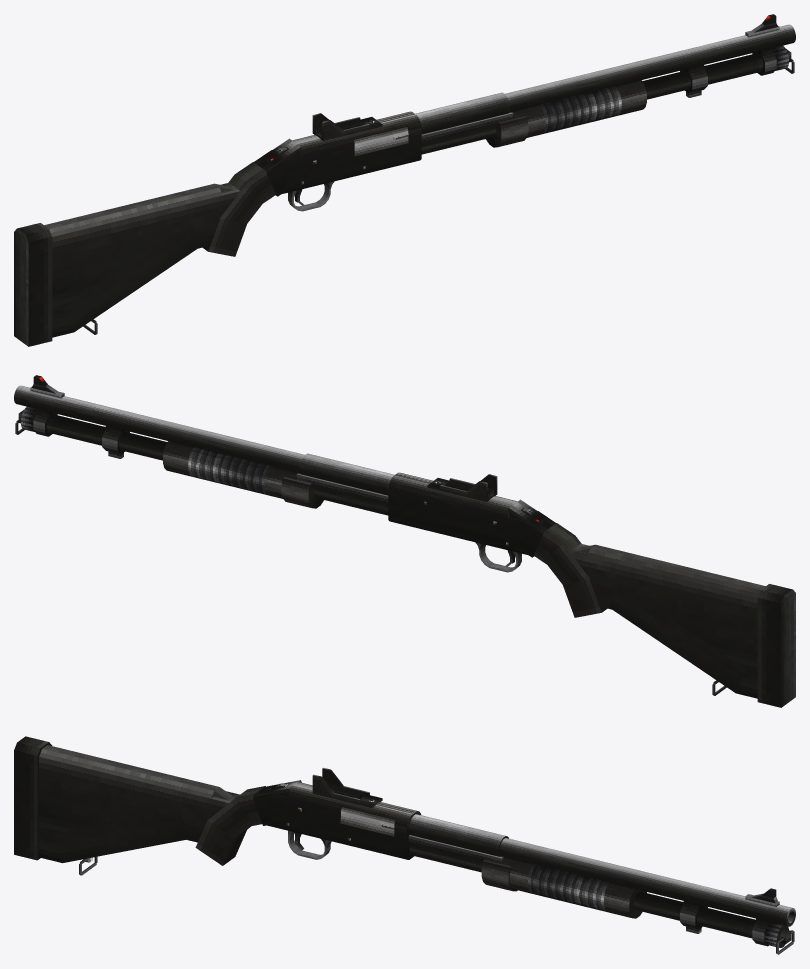
The picture shows the model from 3 angles, top to bottom: view 1: azimuth 30°, elevation 25°; view 2: azimuth 150°, elevation 25°; view 3: azimuth 330°, elevation 25°; orthographic projection.
Visible parts, largest first — view 1: f5b3763d-064a-b784-0038-adc38adc37ef_32, 03a13dee-b489-3118-200b-b3db47bec4b4_38, bbc3fae7-c1f7-fe44-36c8-0cfbc50deba8_44, 63db1a1c-2522-44b8-e556-fcaa695070a6_33, c65d6286-7d67-9cbf-564e-df467fdace8f_144, 2455313a-f111-2c21-71c5-62701c544ca4_37, 777f85dd-bde5-9965-7a39-69890c07a42d_72, bcd631ef-e9cc-dfdc-f6a1-9ca89ff91bc4_74, 2102f927-13a0-3fd6-2e2a-9fac8070c994_70, 395d2e81-b7a1-6665-77a1-1fc556287d8c_43, e7e45683-331e-6489-7116-b20fe40d7f47_42, 28983379-c6ce-c915-3b53-f1b58fa442b5_78 (+12 smaller); view 2: f5b3763d-064a-b784-0038-adc38adc37ef_32, 889fbead-96bc-6db0-e99b-063bc0b169ee_169, 03a13dee-b489-3118-200b-b3db47bec4b4_38, bbc3fae7-c1f7-fe44-36c8-0cfbc50deba8_44, 63db1a1c-2522-44b8-e556-fcaa695070a6_33, 07a236e7-972c-52e0-cf96-bb604088c817_35, 7104beb4-977b-7ccc-7b63-0e26ed53634f_60, b27be56c-dda7-6fed-67fd-9854de0a5e03_58, 7782739e-1e59-092c-4560-c3aad0b7c5ed_61, 395d2e81-b7a1-6665-77a1-1fc556287d8c_43, e7e45683-331e-6489-7116-b20fe40d7f47_42, af05183c-fe40-4eb0-2244-6fc0c3def514_56 (+11 smaller); view 3: f5b3763d-064a-b784-0038-adc38adc37ef_32, bbc3fae7-c1f7-fe44-36c8-0cfbc50deba8_44, 63db1a1c-2522-44b8-e556-fcaa695070a6_33, 03a13dee-b489-3118-200b-b3db47bec4b4_38, c65d6286-7d67-9cbf-564e-df467fdace8f_144, 2455313a-f111-2c21-71c5-62701c544ca4_37, 777f85dd-bde5-9965-7a39-69890c07a42d_72, bcd631ef-e9cc-dfdc-f6a1-9ca89ff91bc4_74, e7e45683-331e-6489-7116-b20fe40d7f47_42, 2102f927-13a0-3fd6-2e2a-9fac8070c994_70, 28983379-c6ce-c915-3b53-f1b58fa442b5_78, 8b1bf0f5-1b15-50c4-0dc3-9be38221117c_41 (+22 smaller).
Boxes of the visible parts, box(x1,y1,x2,y2) form: f5b3763d-064a-b784-0038-adc38adc37ef_32: box(52, 218, 127, 306); 03a13dee-b489-3118-200b-b3db47bec4b4_38: box(14, 232, 52, 346); bbc3fae7-c1f7-fe44-36c8-0cfbc50deba8_44: box(64, 222, 200, 332); 63db1a1c-2522-44b8-e556-fcaa695070a6_33: box(128, 183, 240, 264); c65d6286-7d67-9cbf-564e-df467fdace8f_144: box(286, 140, 421, 190); 2455313a-f111-2c21-71c5-62701c544ca4_37: box(49, 187, 222, 236); 777f85dd-bde5-9965-7a39-69890c07a42d_72: box(509, 32, 795, 105); bcd631ef-e9cc-dfdc-f6a1-9ca89ff91bc4_74: box(508, 28, 794, 101); 2102f927-13a0-3fd6-2e2a-9fac8070c994_70: box(510, 35, 795, 108); 395d2e81-b7a1-6665-77a1-1fc556287d8c_43: box(220, 174, 265, 223); e7e45683-331e-6489-7116-b20fe40d7f47_42: box(202, 218, 246, 256); 28983379-c6ce-c915-3b53-f1b58fa442b5_78: box(506, 26, 793, 97); f5b3763d-064a-b784-0038-adc38adc37ef_32: box(682, 579, 757, 667); 889fbead-96bc-6db0-e99b-063bc0b169ee_169: box(388, 489, 525, 551); 03a13dee-b489-3118-200b-b3db47bec4b4_38: box(757, 593, 795, 707); bbc3fae7-c1f7-fe44-36c8-0cfbc50deba8_44: box(609, 583, 745, 693); 63db1a1c-2522-44b8-e556-fcaa695070a6_33: box(569, 544, 681, 625); 07a236e7-972c-52e0-cf96-bb604088c817_35: box(587, 548, 760, 597); 7104beb4-977b-7ccc-7b63-0e26ed53634f_60: box(14, 393, 300, 466); b27be56c-dda7-6fed-67fd-9854de0a5e03_58: box(15, 389, 301, 462); 7782739e-1e59-092c-4560-c3aad0b7c5ed_61: box(14, 396, 299, 469); 395d2e81-b7a1-6665-77a1-1fc556287d8c_43: box(544, 535, 589, 584); e7e45683-331e-6489-7116-b20fe40d7f47_42: box(563, 579, 607, 617); af05183c-fe40-4eb0-2244-6fc0c3def514_56: box(16, 387, 303, 458); f5b3763d-064a-b784-0038-adc38adc37ef_32: box(39, 757, 116, 832); bbc3fae7-c1f7-fe44-36c8-0cfbc50deba8_44: box(52, 810, 189, 862); 63db1a1c-2522-44b8-e556-fcaa695070a6_33: box(116, 776, 239, 842); 03a13dee-b489-3118-200b-b3db47bec4b4_38: box(14, 745, 52, 860); c65d6286-7d67-9cbf-564e-df467fdace8f_144: box(271, 806, 410, 857); 2455313a-f111-2c21-71c5-62701c544ca4_37: box(39, 749, 214, 798); 777f85dd-bde5-9965-7a39-69890c07a42d_72: box(499, 845, 788, 918); bcd631ef-e9cc-dfdc-f6a1-9ca89ff91bc4_74: box(500, 842, 789, 916); e7e45683-331e-6489-7116-b20fe40d7f47_42: box(195, 820, 246, 865); 2102f927-13a0-3fd6-2e2a-9fac8070c994_70: box(499, 849, 787, 922); 28983379-c6ce-c915-3b53-f1b58fa442b5_78: box(502, 839, 790, 912); 8b1bf0f5-1b15-50c4-0dc3-9be38221117c_41: box(42, 745, 218, 790).
Size of the model in its own units: 2.66 by 0.5094 by 0.1188.
4 materials, 4 textured.
